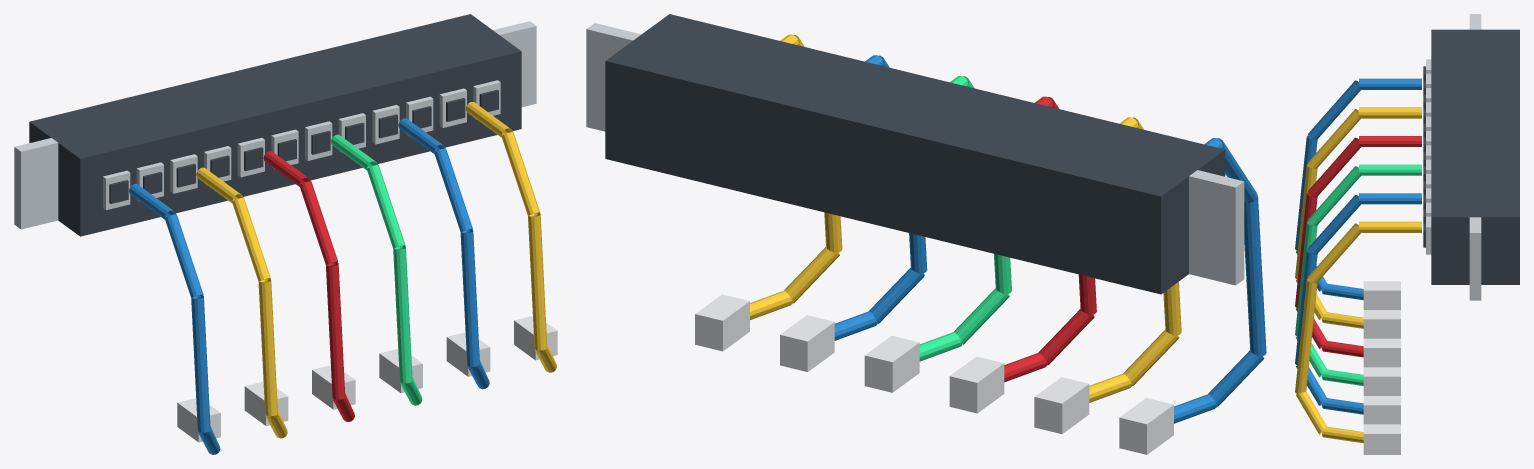
File: model-cabling.glb
3 views of the same model, side by side, from view 1: azimuth 30°, elevation 25°; view 2: azimuth 150°, elevation 25°; view 3: azimuth 270°, elevation 25° (orthographic). The views are drawn at different scales.
Visible parts, largest first — view 1: Patch panel, Network cable2 (×6), Network cable1 (×6), RJ45 plug (×6), Rack mounting ear (×2), Network cable0 (×6), RJ45 socket (×6); view 2: Patch panel, RJ45 plug (×6), Rack mounting ear (×2), Network cable3 (×6), Network cable4 (×6), Network cable2 (×2), Network cable1; view 3: Patch panel, RJ45 plug (×6), Network cable1 (×6), Network cable0 (×6), Network cable2 (×6), Network cable4 (×6), Network cable3 (×4), Rack mounting ear.
Part boxes in pixels (x1,y1,x2,y2): Patch panel: (29,14,521,236); Network cable2 (×6): (191,212,547,432); Network cable1 (×6): (165,132,540,298); RJ45 plug (×6): (177,316,557,442); Rack mounting ear (×2): (14,21,536,229); Network cable0 (×6): (129,102,512,219); RJ45 socket (×6): (103,88,466,210); Patch panel: (605,14,1225,294); RJ45 plug (×6): (695,294,1173,454); Rack mounting ear (×2): (586,23,1244,285); Network cable3 (×6): (784,247,1264,406); Network cable4 (×6): (750,290,1216,423); Network cable2 (×2): (1163,196,1266,356); Network cable1: (1217,138,1257,202); Patch panel: (1431,29,1519,284); RJ45 plug (×6): (1363,281,1400,454); Network cable1 (×6): (1308,80,1360,283); Network cable0 (×6): (1359,78,1421,232); Network cable2 (×6): (1295,135,1317,393); Network cable4 (×6): (1322,283,1363,443); Network cable3 (×4): (1296,308,1326,434); Rack mounting ear: (1469,217,1481,300).
Bounding box in the file's own units: 2.22 × 1.13 × 0.9639.
